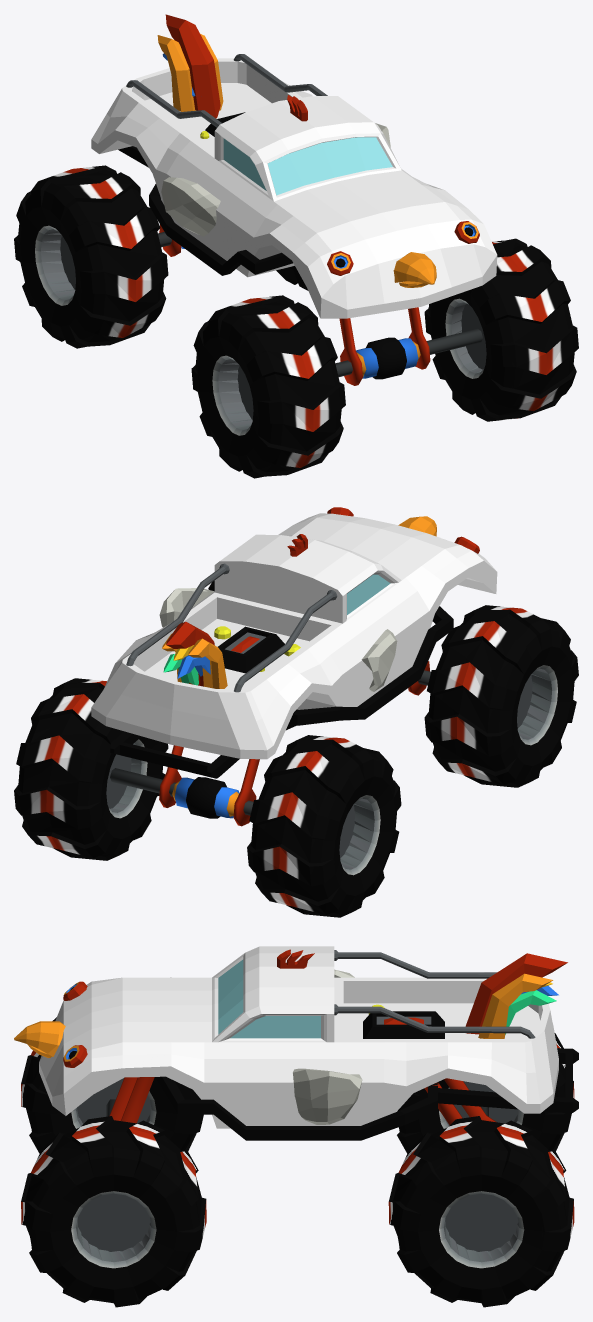
File: Chicken.fbx
3 views of the same model, one above another, from view 1: azimuth 30°, elevation 25°; view 2: azimuth 150°, elevation 25°; view 3: azimuth 270°, elevation 25° (orthographic). The views are drawn at different scales.
Parts seen in each view (by area): view 1: Monster_Truck_Body, Wheel_FR, Wheel_RR, Wheel_FL, Monster_Truck_Livery, Axel Front; view 2: Monster_Truck_Body, Wheel_FR, Wheel_RR, Wheel_RL, Monster_Truck_Livery, Axel Back; view 3: Monster_Truck_Body, Wheel_FL, Wheel_RL, Monster_Truck_Livery, Wheel_FR, Wheel_RR, Axel Front, Axel Back.
Boxes of the visible parts, x1,y1,x2,y2 form: Monster_Truck_Body: [91, 54, 497, 318]; Wheel_FR: [191, 295, 345, 478]; Wheel_RR: [14, 165, 168, 348]; Wheel_FL: [424, 238, 578, 421]; Monster_Truck_Livery: [157, 14, 436, 287]; Axel Front: [335, 307, 482, 385]; Monster_Truck_Body: [91, 507, 497, 778]; Wheel_FR: [424, 605, 578, 787]; Wheel_RR: [247, 735, 401, 917]; Wheel_RL: [14, 678, 168, 860]; Monster_Truck_Livery: [159, 516, 436, 691]; Axel Back: [110, 745, 259, 826]; Monster_Truck_Body: [39, 946, 578, 1140]; Wheel_FL: [21, 1116, 206, 1307]; Wheel_RL: [388, 1116, 574, 1307]; Monster_Truck_Livery: [14, 953, 567, 1124]; Wheel_FR: [21, 1017, 203, 1153]; Wheel_RR: [397, 1033, 574, 1153]; Axel Front: [106, 1077, 154, 1123]; Axel Back: [424, 1078, 496, 1125].
Bounding box in the file's own units: 485 × 409 × 730.
